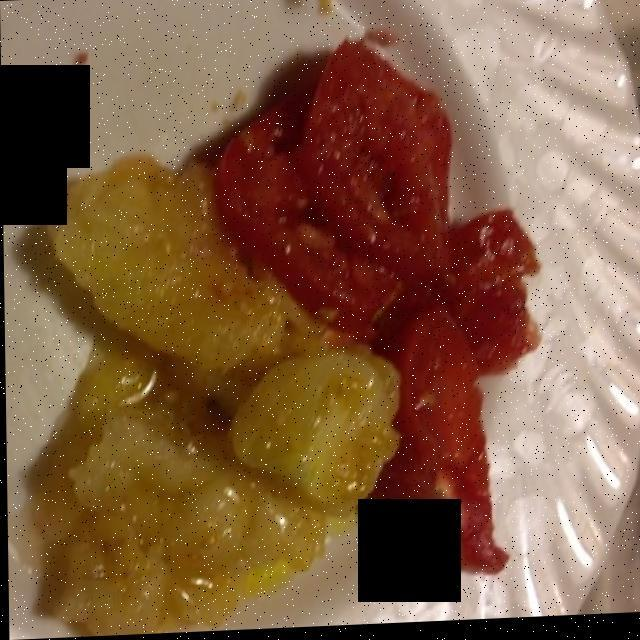tomato: (39, 45, 532, 631)
